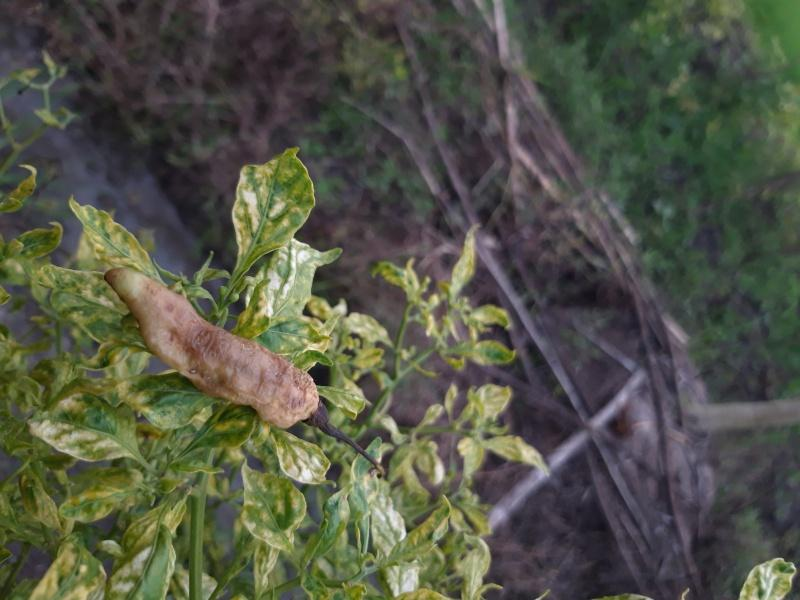antraknosa: (103, 266, 330, 435)
